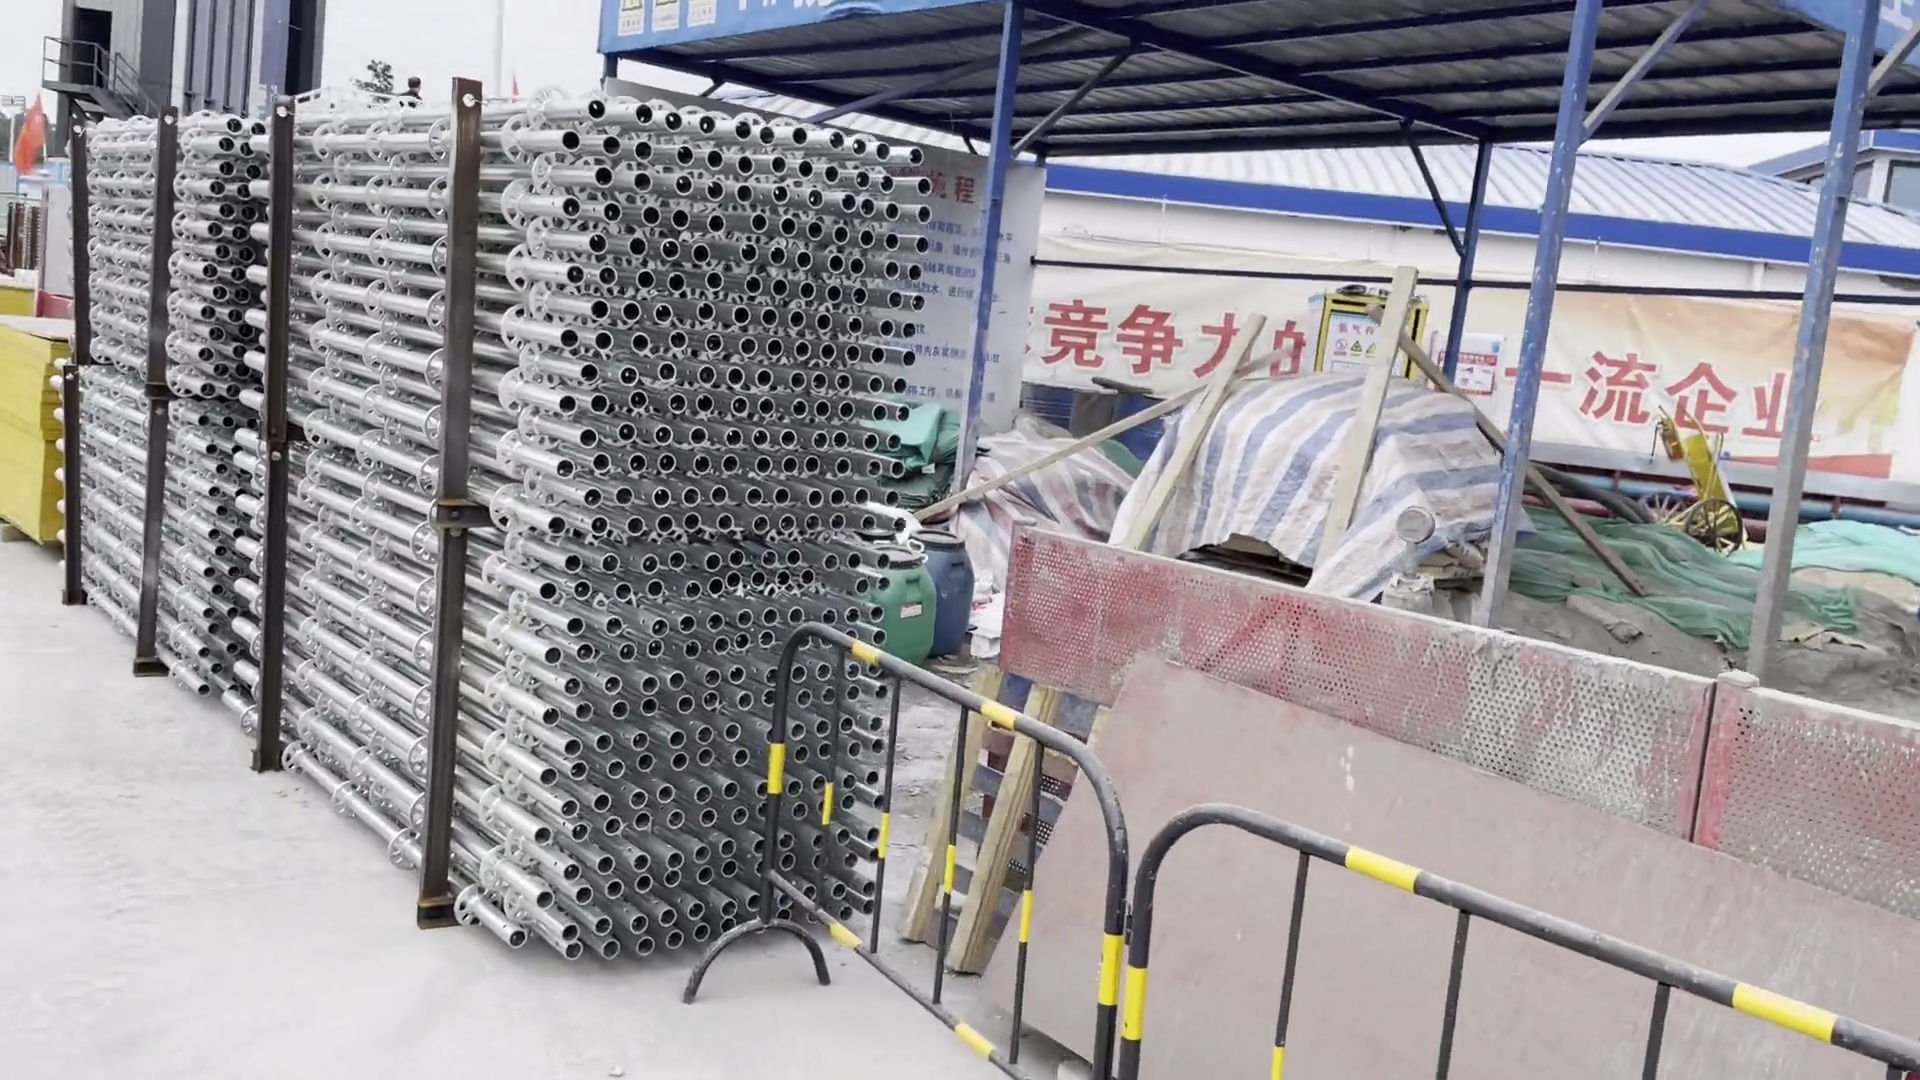board: (7, 301, 82, 560)
scaffold: (224, 103, 949, 949), (61, 69, 313, 682)
